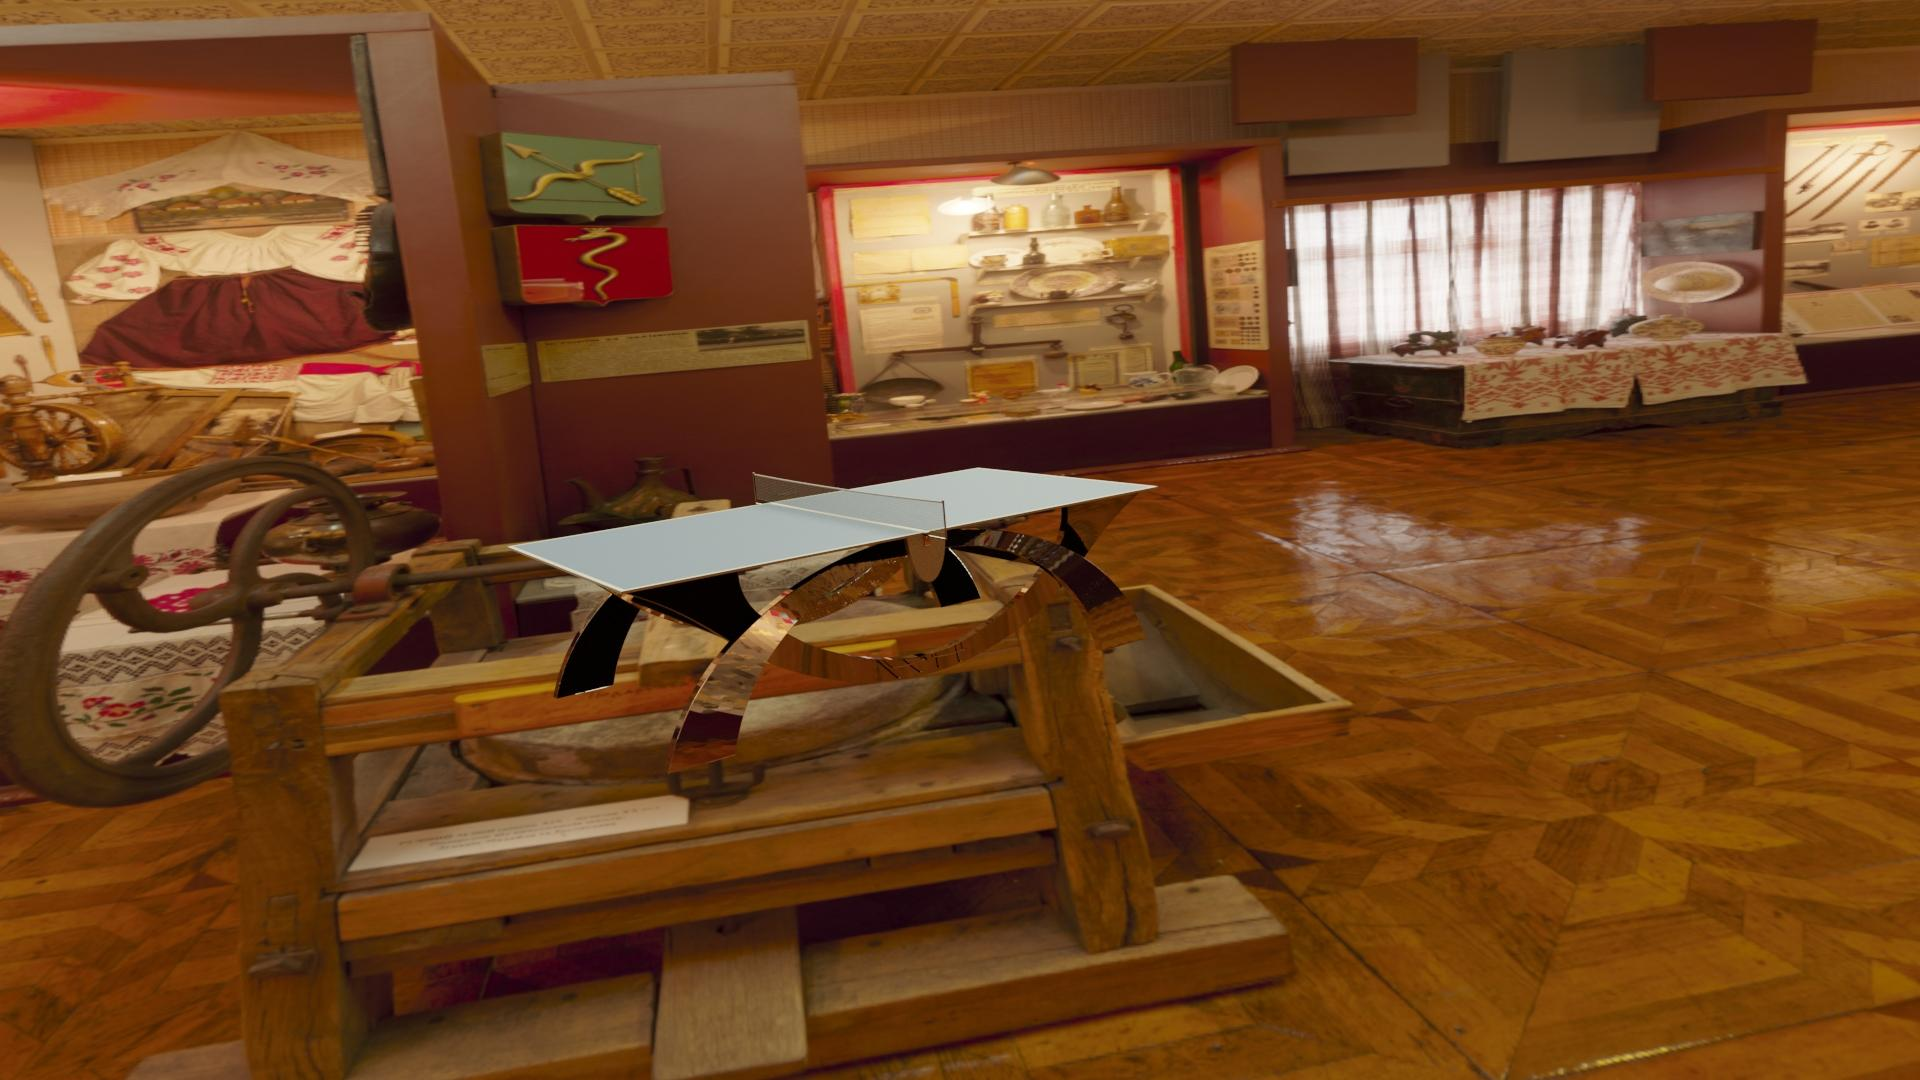table: (513, 468, 1153, 589)
